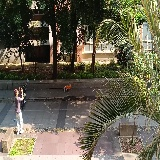fire: (65, 84, 71, 89)
